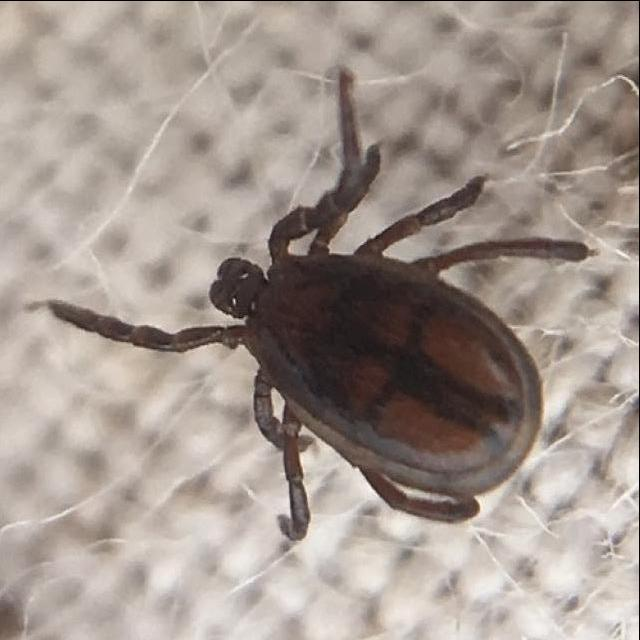Ixodes Ricinus-M: (49, 66, 594, 540)
